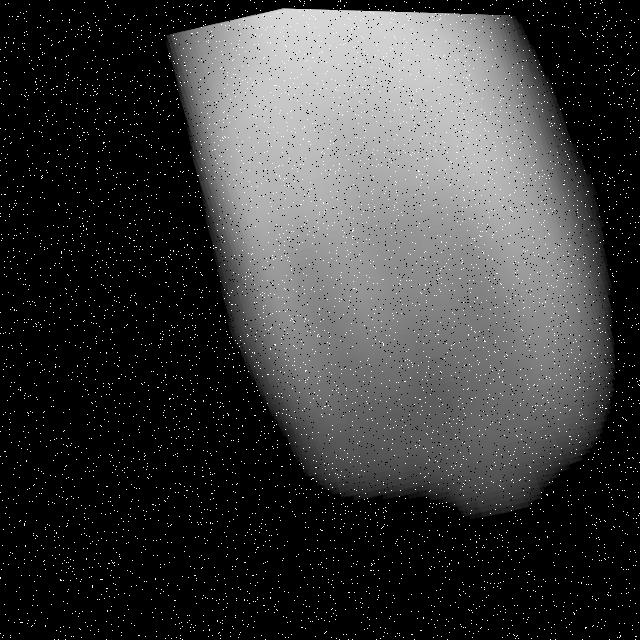person: (108, 3, 640, 574)
